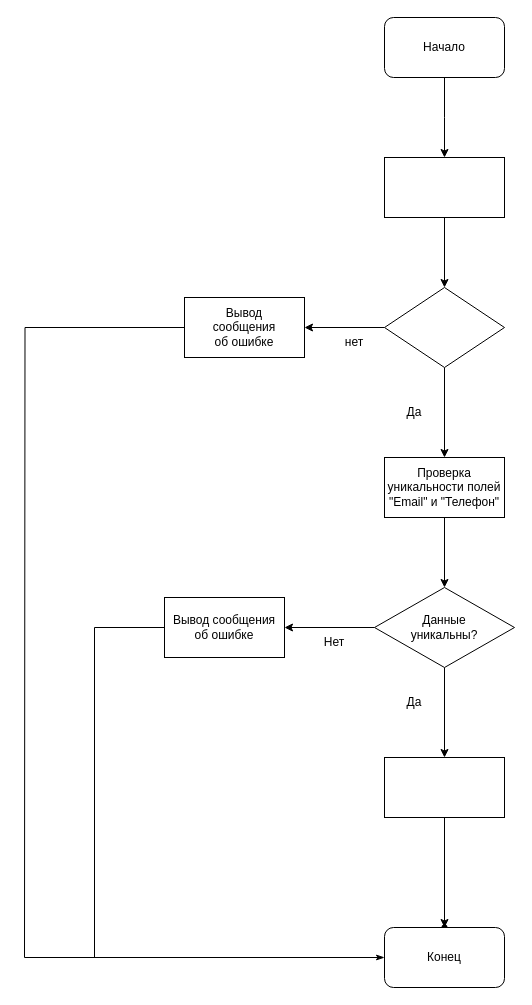
Some shapes in this 532 by 1005 pixel diagram are drawn without their labels. The shapes that lost their labels are listed below. From the top down, each one's centre as x and y in pixels, then its label:
point 444,187: Пользователь нажал кнопку "Заказать"
point 444,327: Данные корректны?
point 444,787: Вывод сообщения "Заказ оформлен"
